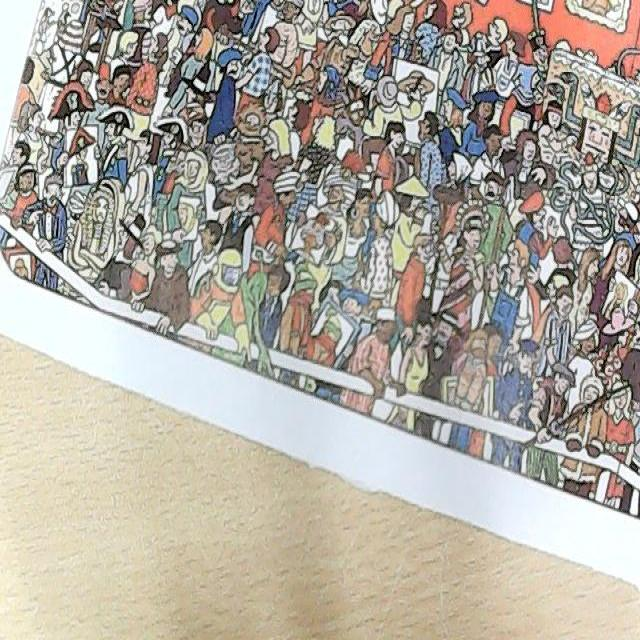waldo: (186, 99, 207, 148)
